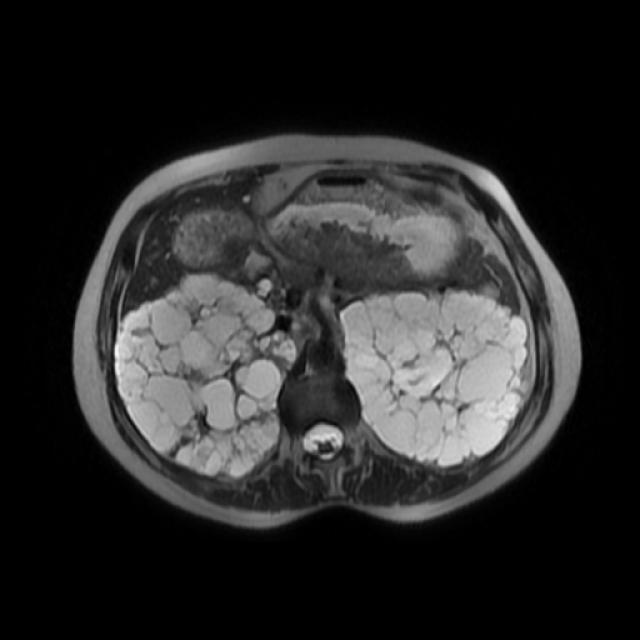sag: (112, 271, 316, 484)
sol: (338, 281, 533, 472)
